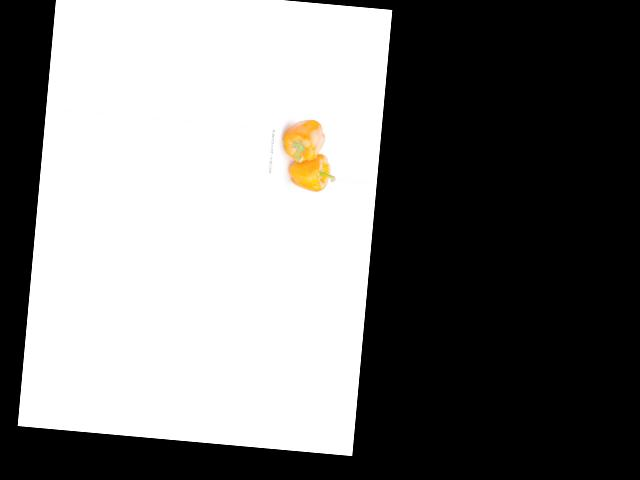bell_pepper: (276, 115, 328, 165)
